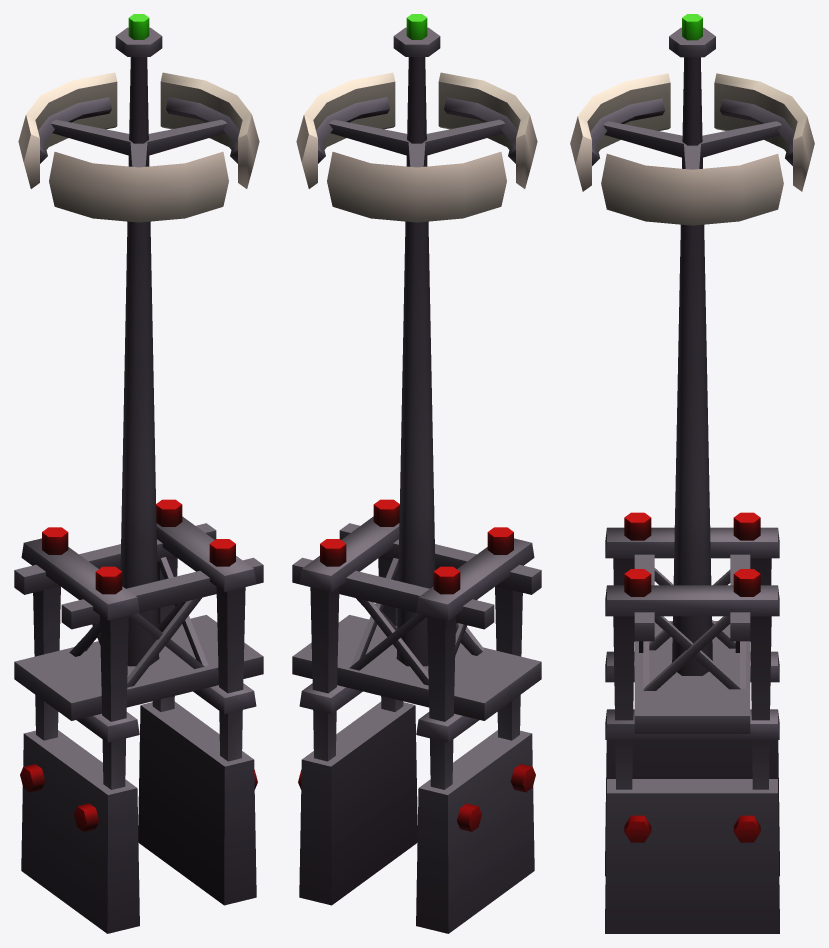
File: Antenna_1B.fbx
The picture shows the model from 3 angles, left to right: view 1: azimuth 30°, elevation 25°; view 2: azimuth 150°, elevation 25°; view 3: azimuth 270°, elevation 25°; orthographic projection.
Parts seen in each view (by area): view 1: Antenna_1B; view 2: Antenna_1B; view 3: Antenna_1B.
Boxes of the visible parts, left/top/right/bottom form: Antenna_1B: left=14, top=14, right=263, bottom=933; Antenna_1B: left=292, top=14, right=541, bottom=933; Antenna_1B: left=570, top=14, right=814, bottom=933.
Size of the model in its own units: 356 by 1419 by 358.
